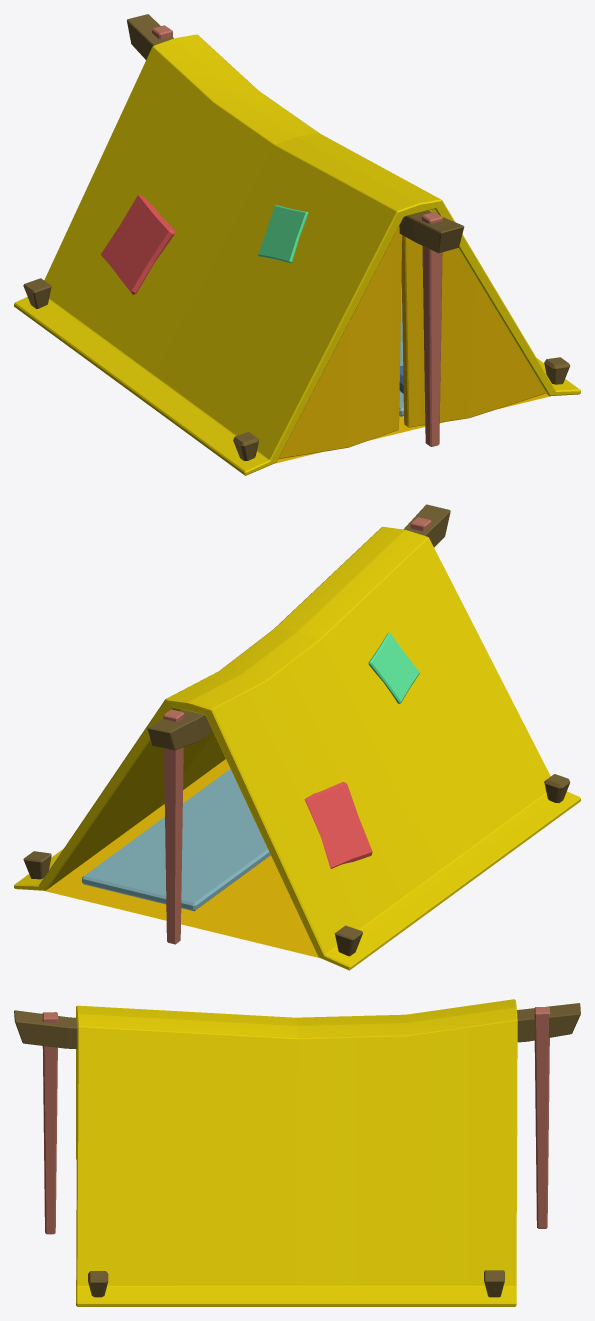
File: tent_v1.fbx
3 views of the same model, one above another, from view 1: azimuth 30°, elevation 25°; view 2: azimuth 150°, elevation 25°; view 3: azimuth 270°, elevation 25° (orthographic). The views are drawn at different scales.
Parts seen in each view (by area): view 1: tent_cloth, tent_flaps, tall_stakes, patch_1, main_pole, patch_2, short_back_stakes, short_front_stakes; view 2: tent_cloth, bed, tent_floor, tall_stakes, patch_1, main_pole, patch_2, short_front_stakes; view 3: tent_cloth, tall_stakes, main_pole, short_front_stakes, short_back_stakes.
Part boxes in pixels (box(x1,y1,x2,y2)): tent_cloth: box(14, 34, 580, 475); tent_flaps: box(278, 210, 545, 458); tall_stakes: box(152, 25, 442, 446); patch_1: box(101, 194, 174, 294); main_pole: box(127, 14, 464, 253); patch_2: box(258, 205, 308, 263); short_back_stakes: box(233, 357, 570, 460); short_front_stakes: box(23, 278, 51, 308); tent_cloth: box(14, 526, 580, 970); bed: box(82, 769, 270, 911); tent_floor: box(44, 759, 319, 957); tall_stakes: box(163, 517, 431, 944); patch_1: box(304, 782, 372, 868); main_pole: box(147, 504, 450, 750); patch_2: box(368, 632, 419, 703); short_front_stakes: box(23, 851, 362, 956); tent_cloth: box(76, 999, 517, 1306); tall_stakes: box(42, 1007, 550, 1234); main_pole: box(14, 1003, 580, 1048); short_front_stakes: box(484, 1270, 504, 1297); short_back_stakes: box(88, 1271, 108, 1297).
Bounding box in the file's own units: 8.39 × 5.49 × 12.88.
